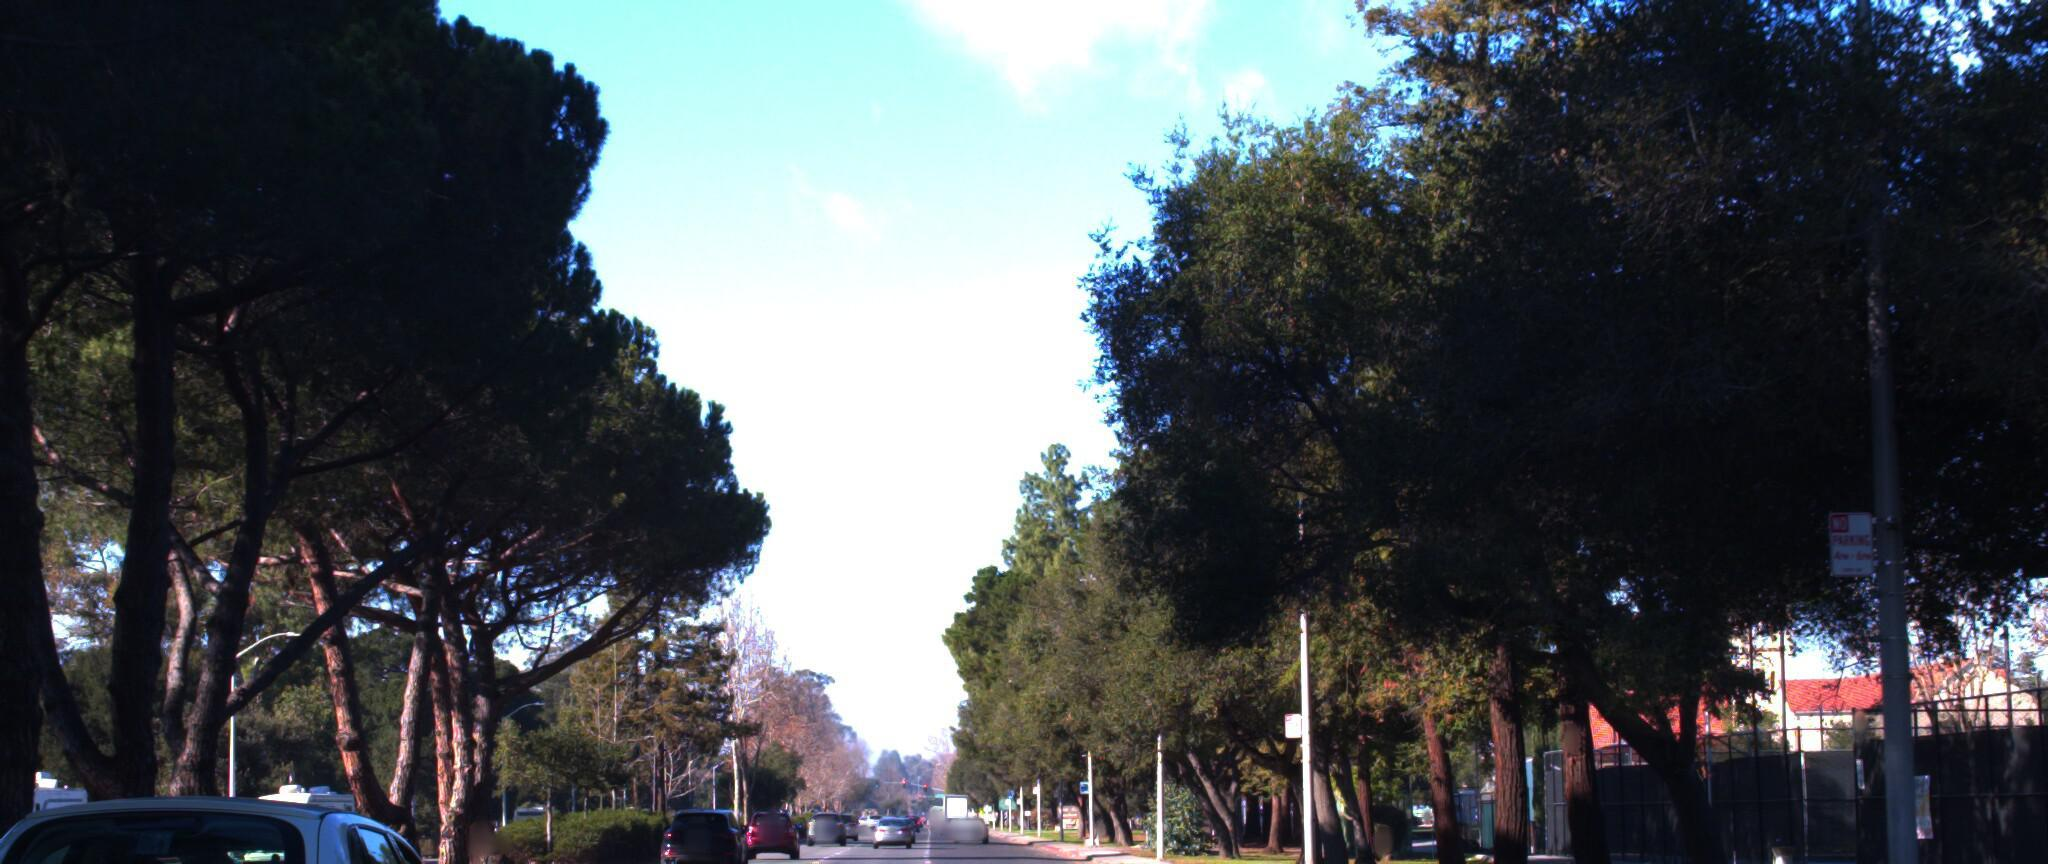car: (0, 777, 550, 864), (657, 787, 746, 864)
other_vehicle: (0, 748, 102, 864)
